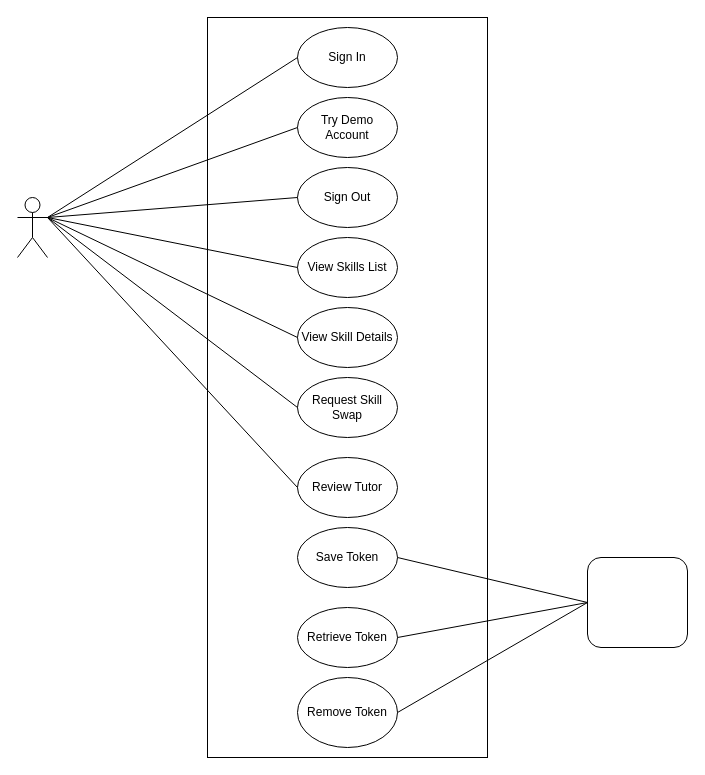
This 705x775 diagram has some shape labels left out. The shapes that lost their labels are listed below. From the top down, each one's box as (x1, y1, x2, y2) in pixels, then its label:
(16, 196, 48, 258): User
(586, 556, 688, 648): <System> Asyncstorage
